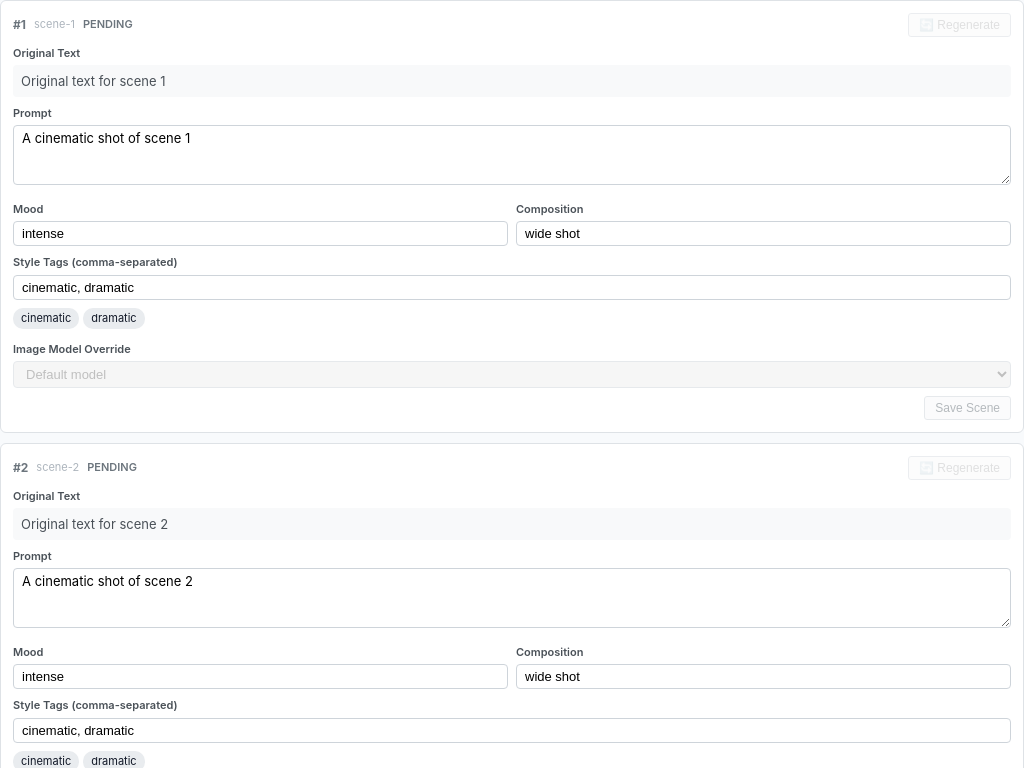
Scenario: VisualPlanEditor › editing mood marks scene dirty
Expected: the element with test id "scene-scene-1" is shown, [0,0,1023,433]
Replace the text in the field with test id "scene-scene-1-mood" with "calm" at (260, 234), box [13,221,508,246]
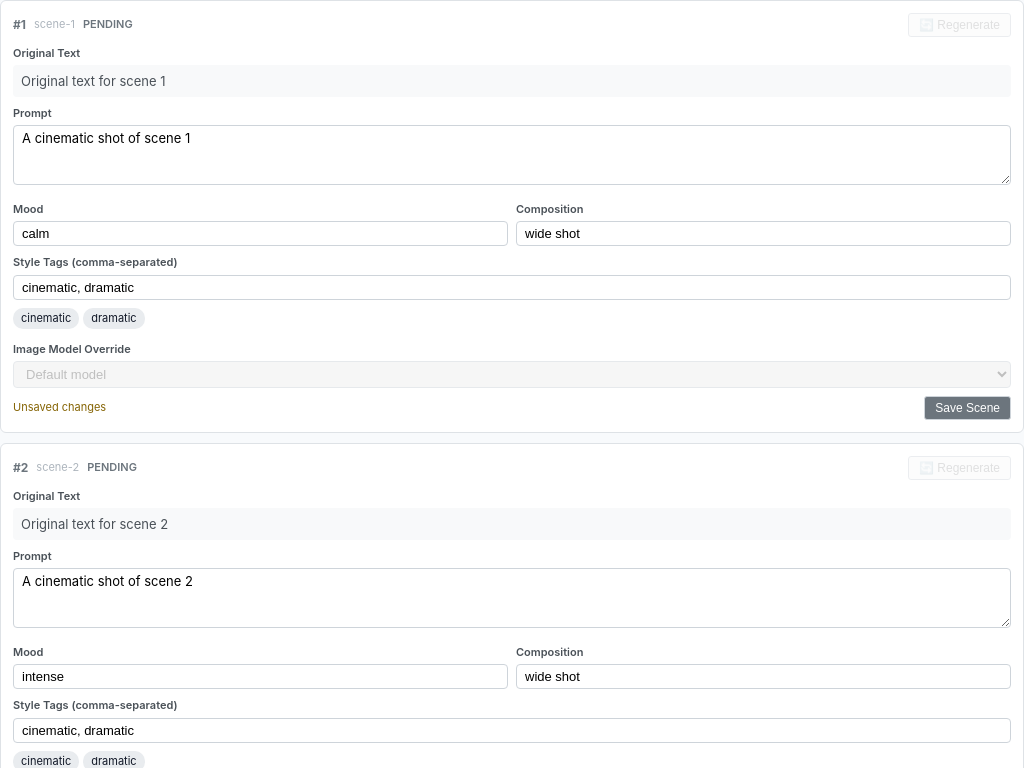
Expected: the text "Unsaved changes" is shown, [13,399,106,417]
